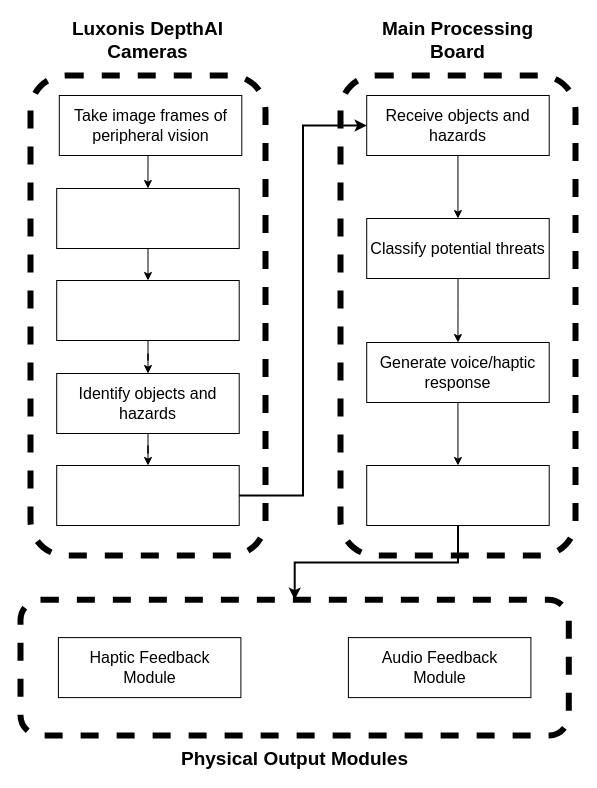
This 597x788 diagram has some shape labels left out. Here are the shapes that lost their labels. From the top down, the centre of each, then its label:
[147,218]: Extract edges and features
[147,310]: Calculate depth and distance
[147,495]: Expose results through Python library
[457,495]: Notify user
